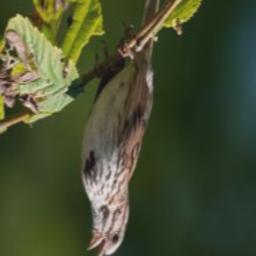Sparrow: (80, 0, 168, 256)
